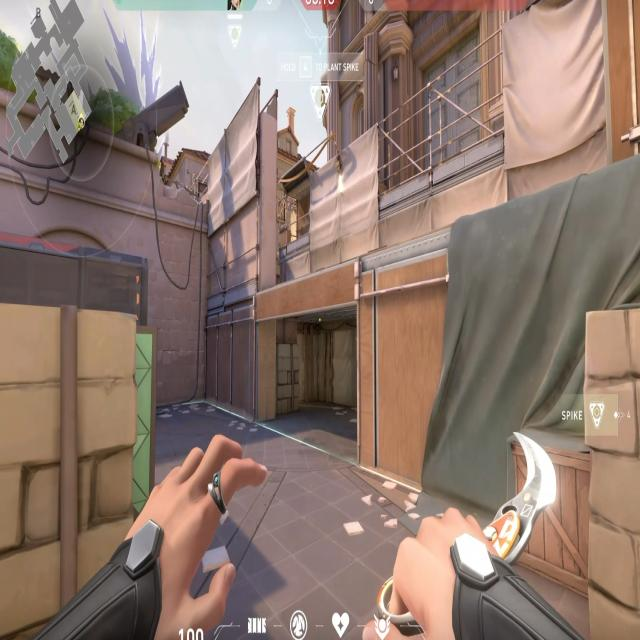A_Heaven_Wall: (208, 115, 278, 290)
A_Hell: (252, 267, 390, 481)
A_Site_Box: (0, 302, 157, 640)
